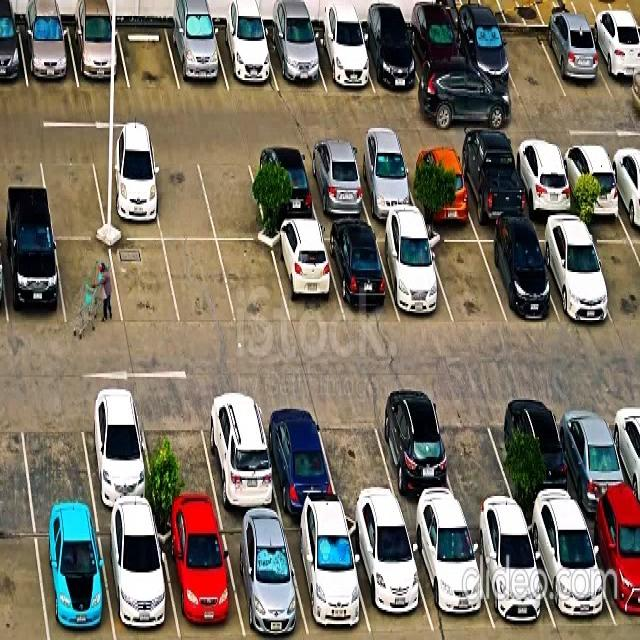empty: (25, 415, 89, 525), (326, 424, 390, 520), (150, 422, 210, 524), (445, 412, 500, 512), (438, 238, 497, 324), (124, 0, 174, 93), (60, 243, 116, 325), (115, 236, 169, 321), (158, 149, 207, 241), (211, 148, 261, 235), (223, 238, 276, 319), (44, 159, 98, 238), (504, 11, 553, 92), (171, 238, 222, 315)
occupied: (37, 532, 104, 640), (166, 528, 230, 640), (543, 525, 605, 640), (234, 528, 297, 640), (298, 527, 358, 640), (205, 424, 270, 528), (362, 531, 424, 640), (424, 527, 483, 640), (106, 532, 166, 640), (486, 525, 542, 640), (87, 426, 150, 526), (384, 414, 444, 516), (508, 404, 562, 509), (274, 427, 328, 532), (554, 228, 607, 329), (565, 412, 620, 509), (389, 230, 444, 324), (98, 146, 156, 233), (498, 230, 550, 325), (415, 137, 465, 232), (470, 143, 520, 238), (253, 147, 310, 229), (338, 226, 387, 321), (277, 232, 331, 318), (173, 0, 221, 95), (520, 146, 568, 238), (570, 144, 617, 236), (367, 5, 415, 94), (7, 242, 59, 324), (223, 1, 270, 90), (548, 0, 596, 87), (322, 1, 366, 93), (416, 6, 462, 94), (464, 1, 507, 94), (274, 0, 318, 90), (360, 146, 408, 227), (74, 0, 120, 84), (26, 0, 69, 87), (313, 147, 359, 224)
